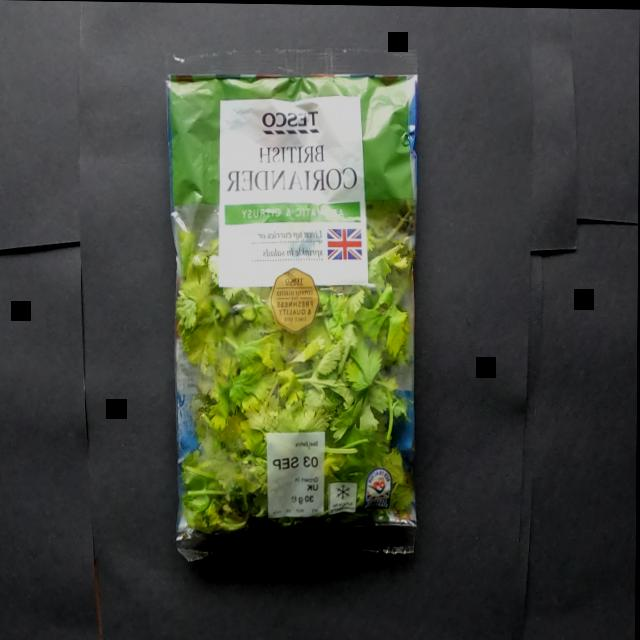Cilantro: (155, 5, 442, 591)
